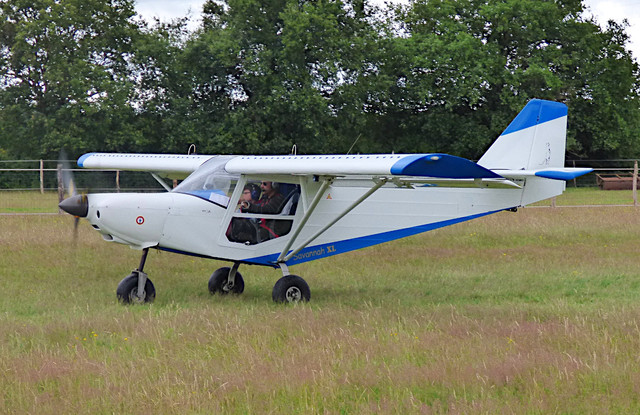Aeronef_de_loisir: (50, 92, 602, 312)
